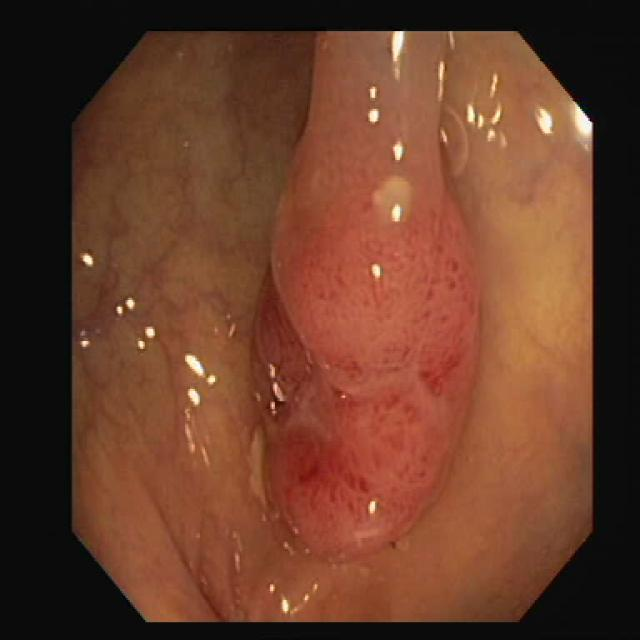tumor: (255, 31, 477, 556)
